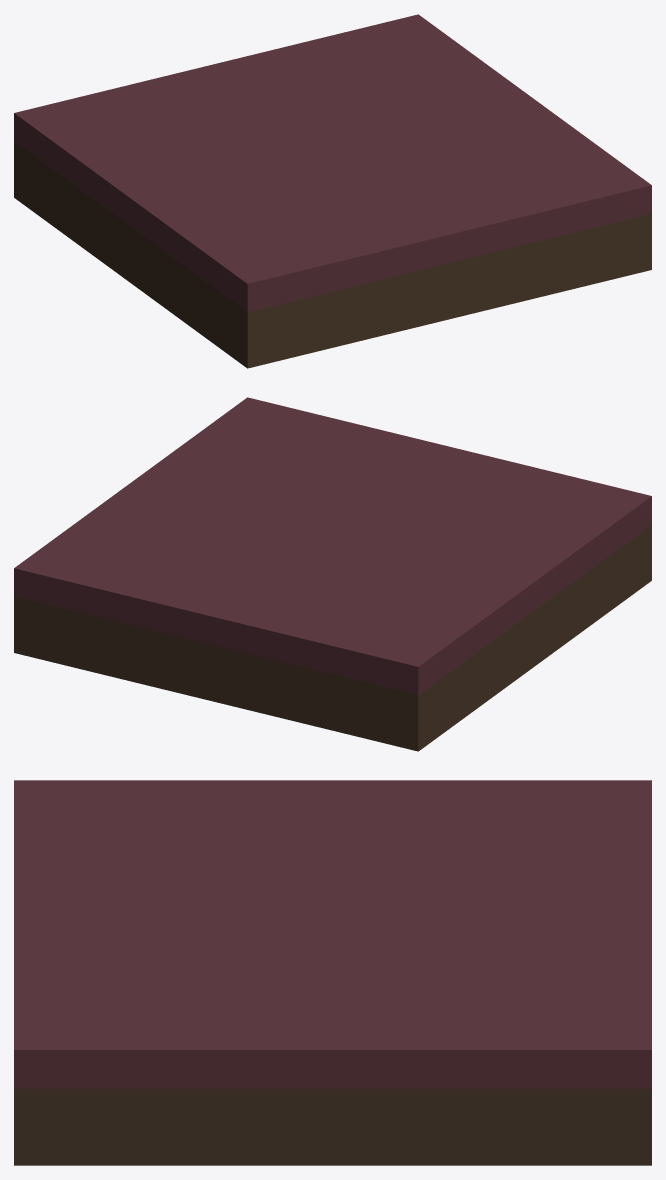
Rendered from tiles-tile-runway-straight.glb.
3 views of the same model, one above another, from view 1: azimuth 30°, elevation 25°; view 2: azimuth 150°, elevation 25°; view 3: azimuth 270°, elevation 25° (orthographic). The views are drawn at different scales.
Parts seen in each view (by area): view 1: tile-runway-straight; view 2: tile-runway-straight; view 3: tile-runway-straight.
Part boxes in pixels (<box>): tile-runway-straight: <box>14,14,651,368</box>; tile-runway-straight: <box>14,397,651,751</box>; tile-runway-straight: <box>14,780,651,1165</box>.
Size of the model in its own units: 30 by 6 by 30.
